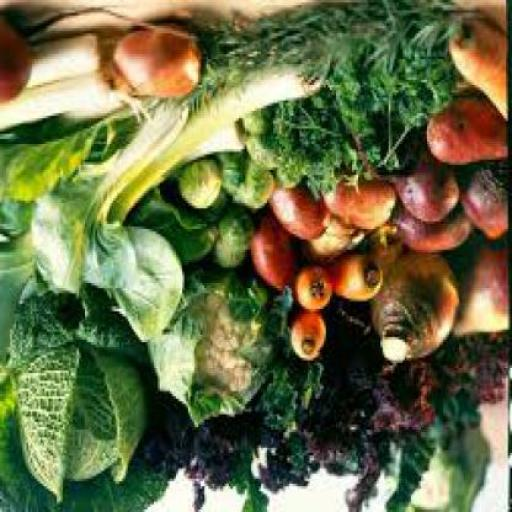biodegradable: (2, 52, 332, 347), (261, 298, 438, 511), (2, 335, 178, 511), (10, 290, 150, 510), (154, 270, 279, 430), (2, 33, 154, 144), (332, 3, 451, 126), (135, 404, 272, 510), (203, 8, 350, 98), (376, 247, 462, 368), (2, 120, 130, 200), (31, 165, 103, 298), (265, 102, 364, 196), (402, 411, 495, 511), (114, 227, 190, 347), (439, 340, 511, 454), (316, 71, 397, 165), (113, 26, 207, 106), (451, 18, 510, 126), (2, 206, 39, 370), (378, 162, 464, 229), (429, 98, 510, 167), (456, 242, 510, 345), (326, 176, 399, 240), (254, 218, 302, 304), (271, 178, 332, 244), (460, 164, 510, 244), (397, 210, 476, 258), (97, 219, 144, 295), (304, 214, 366, 262), (2, 21, 34, 108), (180, 162, 225, 213), (336, 260, 384, 304), (292, 314, 330, 365), (295, 270, 336, 315), (243, 164, 278, 214), (223, 155, 251, 206), (223, 213, 255, 255), (249, 144, 289, 170), (245, 113, 273, 139), (281, 164, 310, 188), (217, 247, 247, 270)
